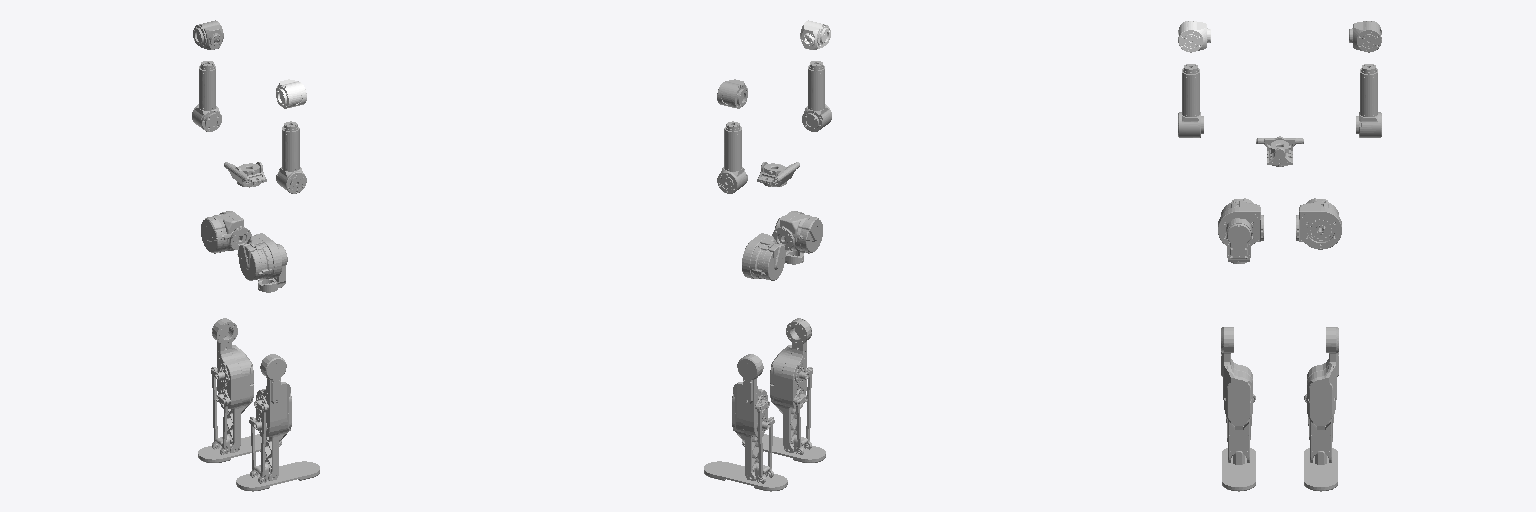
--- Facts derived from the render (not from the file) ---
Views: 3 orthographic renders of the robot side by side, from view 1: azimuth 30°, elevation 25°; view 2: azimuth 150°, elevation 25°; view 3: azimuth 270°, elevation 25°.
Model elf2 with 29 links and 28 joints (25 revolute, 3 fixed), rooted at base_link, posed all joints at 0.
Links seen in each view (by area): view 1: l_knee_y_link, r_knee_y_link, r_hip_y_link, l_hip_y_link, r_shld_z_link, l_shld_z_link, r_ankle_x_link, l_ankle_x_link, r_shld_y_link, l_shld_y_link, waist_x_link; view 2: r_knee_y_link, l_knee_y_link, l_hip_y_link, r_hip_y_link, l_shld_z_link, r_shld_z_link, l_ankle_x_link, r_ankle_x_link, l_shld_y_link, r_shld_y_link, waist_x_link; view 3: l_knee_y_link, r_knee_y_link, l_hip_y_link, l_shld_z_link, r_shld_z_link, l_ankle_x_link, r_ankle_x_link, r_hip_y_link, r_hip_x_link, l_shld_y_link, r_shld_y_link, waist_x_link.
Boxes of the visible links, x1=… form: l_knee_y_link: x1=211, y1=318, x2=253, y2=454; r_knee_y_link: x1=249, y1=354, x2=291, y2=483; r_hip_y_link: x1=237, y1=233, x2=281, y2=280; l_hip_y_link: x1=201, y1=211, x2=251, y2=253; r_shld_z_link: x1=276, y1=121, x2=306, y2=193; l_shld_z_link: x1=192, y1=61, x2=221, y2=131; r_ankle_x_link: x1=236, y1=461, x2=319, y2=491; l_ankle_x_link: x1=198, y1=434, x2=281, y2=462; r_shld_y_link: x1=276, y1=79, x2=306, y2=108; l_shld_y_link: x1=193, y1=20, x2=223, y2=49; waist_x_link: x1=224, y1=162, x2=266, y2=187; r_knee_y_link: x1=770, y1=318, x2=812, y2=454; l_knee_y_link: x1=732, y1=354, x2=774, y2=483; l_hip_y_link: x1=742, y1=233, x2=786, y2=280; r_hip_y_link: x1=772, y1=211, x2=822, y2=253; l_shld_z_link: x1=717, y1=121, x2=747, y2=193; r_shld_z_link: x1=802, y1=61, x2=831, y2=131; l_ankle_x_link: x1=704, y1=461, x2=787, y2=491; r_ankle_x_link: x1=742, y1=434, x2=825, y2=462; l_shld_y_link: x1=717, y1=79, x2=747, y2=108; r_shld_y_link: x1=800, y1=20, x2=830, y2=49; waist_x_link: x1=757, y1=162, x2=799, y2=186; l_knee_y_link: x1=1304, y1=327, x2=1338, y2=462; r_knee_y_link: x1=1221, y1=327, x2=1255, y2=462; l_hip_y_link: x1=1296, y1=198, x2=1341, y2=249; l_shld_z_link: x1=1356, y1=64, x2=1381, y2=137; r_shld_z_link: x1=1178, y1=64, x2=1203, y2=137; l_ankle_x_link: x1=1304, y1=448, x2=1337, y2=491; r_ankle_x_link: x1=1222, y1=448, x2=1255, y2=491; r_hip_y_link: x1=1218, y1=198, x2=1263, y2=245; r_hip_x_link: x1=1226, y1=218, x2=1251, y2=263; l_shld_y_link: x1=1349, y1=21, x2=1381, y2=52; r_shld_y_link: x1=1178, y1=21, x2=1210, y2=52; waist_x_link: x1=1256, y1=136, x2=1303, y2=166.
Bounding box of the posed robot: 0.24 × 0.4979 × 1.19 m (x, y, z).
Meshes: 26 distinct files referenced, 15 mesh visuals loaded (15 binary STL); not drawn: 11 (reference not matched to a file when rendering).

The robot description file, URDF, robot "elf2":
<?xml version="1.0" encoding="utf-8"?>
<robot
  name="elf2">
  <link
    name="base_link">
    <inertial>
      <origin
        xyz="-0.002719 0.001928 0.003917"
        rpy="0 0 0" />
      <mass
        value="8.948443" />
      <inertia
        ixx="0.18746"
        ixy="-0.000182"
        ixz="-0.001384"
        iyy="0.142272"
        iyz="0.000105"
        izz="0.069523" />
    </inertial>
    <visual>
      <origin
        xyz="0 0 0"
        rpy="0 0 0" />
      <geometry>
        <mesh
          filename="../meshes/base_link.STL" />
      </geometry>
      <material
        name="">
        <color
          rgba="0.75294 0.75294 0.75294 1" />
      </material>
    </visual>
    <collision>
      <origin
        xyz="0 0 0"
        rpy="0 0 0" />
      <geometry>
        <mesh
          filename="../meshes/base_link.STL" />
      </geometry>
    </collision>
  </link>
  <link
    name="waist_y_link">
    <inertial>
      <origin
        xyz="0.0 0.0 0.0"
        rpy="0 0 0" />
      <mass
        value="0.05316739" />
      <inertia
        ixx="9.7e-06"
        ixy="-0.0"
        ixz="-0.0"
        iyy="9.7e-06"
        iyz="-0.0"
        izz="1.819e-05" />
    </inertial>
    <visual>
      <origin
        xyz="0 0 0"
        rpy="0 0 0" />
      <geometry>
        <mesh
          filename="../meshes/waist_y_link.STL" />
      </geometry>
      <material
        name="">
        <color
          rgba="0.752941176470588 0.752941176470588 0.752941176470588 1" />
      </material>
    </visual>
    <!-- <collision>
      <origin
        xyz="0 0 0"
        rpy="0 0 0" />
      <geometry>
        <mesh
          filename="../meshes/waist_y_link.STL" />
      </geometry>
    </collision> -->
  </link>
  <joint
    name="waist_y_joint"
    type="revolute">
    <origin
      xyz="0 0 -0.2087"
      rpy="0 0 0" />
    <parent
      link="base_link" />
    <child
      link="waist_y_link" />
    <axis
      xyz="0 1 0" />
    <limit
      lower="-0.523"
      upper="0.523"
      effort="50"
      velocity="20" />
  </joint>
  <link
    name="waist_x_link">
    <inertial>
      <origin
        xyz="-0.00448944 0.0 -0.02389195"
        rpy="0 0 0" />
      <mass
        value="0.21792014" />
      <inertia
        ixx="9.089e-05"
        ixy="-0.0"
        ixz="3.456e-05"
        iyy="0.0001491"
        iyz="-0.0"
        izz="0.00013001" />
    </inertial>
    <visual>
      <origin
        xyz="0 0 0"
        rpy="0 0 0" />
      <geometry>
        <mesh
          filename="../meshes/waist_x_link.STL" />
      </geometry>
      <material
        name="">
        <color
          rgba="0.752941176470588 0.752941176470588 0.752941176470588 1" />
      </material>
    </visual>
    <!-- <collision>
      <origin
        xyz="0 0 0"
        rpy="0 0 0" />
      <geometry>
        <mesh
          filename="../meshes/waist_x_link.STL" />
      </geometry>
    </collision> -->
  </link>
  <joint
    name="waist_x_joint"
    type="revolute">
    <origin
      xyz="0 0 0"
      rpy="0 0 0" />
    <parent
      link="waist_y_link" />
    <child
      link="waist_x_link" />
    <axis
      xyz="1 0 0" />
    <limit
      lower="-0.261"
      upper="0.261"
      effort="50"
      velocity="20" />
  </joint>
  <link
    name="waist_z_link">
    <inertial>
      <origin
        xyz="0.00031142 0.00082403 -0.08226891"
        rpy="0 0 0" />
      <mass
        value="3.12645393" />
      <inertia
        ixx="0.0215717"
        ixy="1.17e-06"
        ixz="-1.184e-05"
        iyy="0.00322293"
        iyz="-7.322e-05"
        izz="0.0229471" />
    </inertial>
    <visual>
      <origin
        xyz="0 0 0"
        rpy="0 0 0" />
      <geometry>
        <mesh
          filename="../meshes/waist_z_link.STL" />
      </geometry>
      <material
        name="">
        <color
          rgba="0.752941176470588 0.752941176470588 0.752941176470588 1" />
      </material>
    </visual>
    <collision>
      <origin
        xyz="0 0 0"
        rpy="0 0 0" />
      <geometry>
        <mesh
          filename="../meshes/waist_z_link.STL" />
      </geometry>
    </collision>
  </link>
  <joint
    name="waist_z_joint"
    type="revolute">
    <origin
      xyz="0 0 0"
      rpy="0 0 0" />
    <parent
      link="waist_x_link" />
    <child
      link="waist_z_link" />
    <axis
      xyz="0 0 1" />
    <limit
      lower="-1.57"
      upper="1.57"
      effort="40"
      velocity="20" />
  </joint>
  <link
    name="l_hip_z_link">
    <inertial>
      <origin
        xyz="-0.0951743 -0.00029544 0.01157699"
        rpy="0 0 0" />
      <mass
        value="1.26002534" />
      <inertia
        ixx="0.00250858"
        ixy="-1.87e-05"
        ixz="-0.00093719"
        iyy="0.00299504"
        iyz="6.14e-06"
        izz="0.00188897" />
    </inertial>
    <visual>
      <origin
        xyz="0 0 0"
        rpy="0 0 0" />
      <geometry>
        <mesh
          filename="../meshes/l_hip_z_link.STL" />
      </geometry>
      <material
        name="">
        <color
          rgba="0.752941176470588 0.752941176470588 0.752941176470588 1" />
      </material>
    </visual>
    <collision>
      <origin
        xyz="0 0 0"
        rpy="0 0 0" />
      <geometry>
        <mesh
          filename="../meshes/l_hip_z_link.STL" />
      </geometry>
    </collision>
  </link>
  <joint
    name="l_hip_z_joint"
    type="revolute">
    <origin
      xyz="0 0.1 -0.2175"
      rpy="0 0 0" />
    <parent
      link="waist_z_link" />
    <child
      link="l_hip_z_link" />
    <axis
      xyz="0 0 1" />
    <limit
      lower="-0.785"
      upper="0.785"
      effort="20"
      velocity="20" />
  </joint>
  <link
    name="l_hip_x_link">
    <inertial>
      <origin
        xyz="-0.00349545 -0.05016077 0.00015601"
        rpy="0 0 0" />
      <mass
        value="1.75826055" />
      <inertia
        ixx="0.00145734"
        ixy="0.000276"
        ixz="2.571e-05"
        iyy="0.00183603"
        iyz="-4e-08"
        izz="0.00181117" />
    </inertial>
    <visual>
      <origin
        xyz="0 0 0"
        rpy="0 0 0" />
      <geometry>
        <mesh
          filename="../meshes/l_hip_x_link.STL" />
      </geometry>
      <material
        name="">
        <color
          rgba="0.752941176470588 0.752941176470588 0.752941176470588 1" />
      </material>
    </visual>
    <!-- <collision>
      <origin
        xyz="0 0 0"
        rpy="0 0 0" />
      <geometry>
        <mesh
          filename="../meshes/l_hip_x_link.STL" />
      </geometry>
    </collision> -->
  </link>
  <joint
    name="l_hip_x_joint"
    type="revolute">
    <origin
      xyz="0 0 0"
      rpy="0 0 0" />
    <parent
      link="l_hip_z_link" />
    <child
      link="l_hip_x_link" />
    <axis
      xyz="1 0 0" />
    <limit
      lower="-0.523"
      upper="0.785"
      effort="40"
      velocity="20" />
  </joint>
  <link
    name="l_hip_y_link">
    <inertial>
      <origin
        xyz="0.00237237 0.02408075 -0.04874487"
        rpy="0 0 0" />
      <mass
        value="2.66296335" />
      <inertia
        ixx="0.02678784"
        ixy="0.00016594"
        ixz="0.00075939"
        iyy="0.02619934"
        iyz="-0.00371457"
        izz="0.0045187" />
    </inertial>
    <visual>
      <origin
        xyz="0 0 0"
        rpy="0 0 0" />
      <geometry>
        <mesh
          filename="../meshes/l_hip_y_link.STL" />
      </geometry>
      <material
        name="">
        <color
          rgba="0.752941176470588 0.752941176470588 0.752941176470588 1" />
      </material>
    </visual>
    <!-- <collision>
      <origin
        xyz="0 0 0"
        rpy="0 0 0" />
      <geometry>
        <mesh
          filename="../meshes/l_hip_y_link.STL" />
      </geometry>
    </collision> -->
  </link>
  <joint
    name="l_hip_y_joint"
    type="revolute">
    <origin
      xyz="0 0 0"
      rpy="0 0 0" />
    <parent
      link="l_hip_x_link" />
    <child
      link="l_hip_y_link" />
    <axis
      xyz="0 1 0" />
    <limit
      lower="-2"
      upper="1"
      effort="100"
      velocity="20" />
  </joint>
  <link
    name="l_knee_y_link">
    <inertial>
      <origin
        xyz="0.00711393 -0.00031499 -0.10977806"
        rpy="0 0 0" />
      <mass
        value="1.63072153" />
      <inertia
        ixx="0.01042782"
        ixy="1.62e-06"
        ixz="-0.00054999"
        iyy="0.01018545"
        iyz="-0.00015956"
        izz="0.00140744" />
    </inertial>
    <visual>
      <origin
        xyz="0 0 0"
        rpy="0 0 0" />
      <geometry>
        <mesh
          filename="../meshes/l_knee_y_link.STL" />
      </geometry>
      <material
        name="">
        <color
          rgba="0.752941176470588 0.752941176470588 0.752941176470588 1" />
      </material>
    </visual>
    <collision>
      <origin
        xyz="0 0 0"
        rpy="0 0 0" />
      <geometry>
        <mesh
          filename="../meshes/l_knee_y_link.STL" />
      </geometry>
    </collision>
  </link>
  <joint
    name="l_knee_y_joint"
    type="revolute">
    <origin
      xyz="0 0 -0.3"
      rpy="0 0 0" />
    <parent
      link="l_hip_y_link" />
    <child
      link="l_knee_y_link" />
    <axis
      xyz="0 1 0" />
    <limit
      lower="0"
      upper="2.355"
      effort="120"
      velocity="20" />
  </joint>
  <link
    name="l_ankle_y_link">
    <inertial>
      <origin
        xyz="0.0 0.0 -0.00046563"
        rpy="0 0 0" />
      <mass
        value="0.01206963" />
      <inertia
        ixx="2.89e-06"
        ixy="-0.0"
        ixz="-0.0"
        iyy="3.4e-07"
        iyz="-0.0"
        izz="3.01e-06" />
    </inertial>
    <visual>
      <origin
        xyz="0 0 0"
        rpy="0 0 0" />
      <geometry>
        <mesh
          filename="../meshes/l_ankle_y_link.STL" />
      </geometry>
      <material
        name="">
        <color
          rgba="0.752941176470588 0.752941176470588 0.752941176470588 1" />
      </material>
    </visual>
    <!-- <collision>
      <origin
        xyz="0 0 0"
        rpy="0 0 0" />
      <geometry>
        <mesh
          filename="../meshes/l_ankle_y_link.STL" />
      </geometry>
    </collision> -->
  </link>
  <joint
    name="l_ankle_y_joint"
    type="revolute">
    <origin
      xyz="0 0 -0.3"
      rpy="0 0 0" />
    <parent
      link="l_knee_y_link" />
    <child
      link="l_ankle_y_link" />
    <axis
      xyz="0 1 0" />
    <limit
      lower="-2"
      upper="2"
      effort="12"
      velocity="20" />
  </joint>
  <link
    name="l_ankle_x_link">
    <inertial>
      <origin
        xyz="-0.00088171 0.0 -0.02245193"
        rpy="0 0 0" />
      <mass
        value="0.27064154" />
      <inertia
        ixx="0.00014549"
        ixy="-0.0"
        ixz="5.53e-06"
        iyy="0.00071745"
        iyz="-0.0"
        izz="0.00081666" />
    </inertial>
    <visual>
      <origin
        xyz="0 0 0"
        rpy="0 0 0" />
      <geometry>
        <mesh
          filename="../meshes/l_ankle_x_link.STL" />
      </geometry>
      <material
        name="">
        <color
          rgba="0.752941176470588 0.752941176470588 0.752941176470588 1" />
      </material>
    </visual>
    <collision>
      <origin
        xyz="0 0 0"
        rpy="0 0 0" />
      <geometry>
        <mesh
          filename="../meshes/l_ankle_x_link.STL" />
      </geometry>
    </collision>
  </link>
  <joint
    name="l_ankle_x_joint"
    type="revolute">
    <origin
      xyz="0 0 0"
      rpy="0 0 0" />
    <parent
      link="l_ankle_y_link" />
    <child
      link="l_ankle_x_link" />
    <axis
      xyz="1 0 0" />
    <limit
      lower="-0.349"
      upper="0.349"
      effort="6"
      velocity="20" />
  </joint>
  <link
    name="r_hip_z_link">
    <inertial>
      <origin
        xyz="-0.0951743 0.00029543 0.01157699"
        rpy="0 0 0" />
      <mass
        value="1.26002506" />
      <inertia
        ixx="0.00250858"
        ixy="1.87e-05"
        ixz="-0.00093719"
        iyy="0.00299504"
        iyz="-6.14e-06"
        izz="0.00188897" />
    </inertial>
    <visual>
      <origin
        xyz="0 0 0"
        rpy="0 0 0" />
      <geometry>
        <mesh
          filename="../meshes/r_hip_z_link.STL" />
      </geometry>
      <material
        name="">
        <color
          rgba="0.752941176470588 0.752941176470588 0.752941176470588 1" />
      </material>
    </visual>
    <collision>
      <origin
        xyz="0 0 0"
        rpy="0 0 0" />
      <geometry>
        <mesh
          filename="../meshes/r_hip_z_link.STL" />
      </geometry>
    </collision>
  </link>
  <joint
    name="r_hip_z_joint"
    type="revolute">
    <origin
      xyz="0 -0.1 -0.2175"
      rpy="0 0 0" />
    <parent
      link="waist_z_link" />
    <child
      link="r_hip_z_link" />
    <axis
      xyz="0 0 1" />
    <limit
      lower="-0.785"
      upper="0.785"
      effort="20"
      velocity="20" />
  </joint>
  <link
    name="r_hip_x_link">
    <inertial>
      <origin
        xyz="-0.00349545 0.05016077 0.000156"
        rpy="0 0 0" />
      <mass
        value="1.75825984" />
      <inertia
        ixx="0.00145734"
        ixy="-0.000276"
        ixz="2.571e-05"
        iyy="0.00183603"
        iyz="4e-08"
        izz="0.00181117" />
    </inertial>
    <visual>
      <origin
        xyz="0 0 0"
        rpy="0 0 0" />
      <geometry>
        <mesh
          filename="../meshes/r_hip_x_link.STL" />
      </geometry>
      <material
        name="">
        <color
          rgba="0.752941176470588 0.752941176470588 0.752941176470588 1" />
      </material>
    </visual>
    <!-- <collision>
      <origin
        xyz="0 0 0"
        rpy="0 0 0" />
      <geometry>
        <mesh
          filename="../meshes/r_hip_x_link.STL" />
      </geometry>
    </collision> -->
  </link>
  <joint
    name="r_hip_x_joint"
    type="revolute">
    <origin
      xyz="0 0 0"
      rpy="0 0 0" />
    <parent
      link="r_hip_z_link" />
    <child
      link="r_hip_x_link" />
    <axis
      xyz="1 0 0" />
    <limit
      lower="-0.785"
      upper="0.523"
      effort="40"
      velocity="20" />
  </joint>
  <link
    name="r_hip_y_link">
    <inertial>
      <origin
        xyz="0.00237237 -0.02408076 -0.04874488"
        rpy="0 0 0" />
      <mass
        value="2.66296401" />
      <inertia
        ixx="0.02678786"
        ixy="-0.00016594"
        ixz="0.00075939"
        iyy="0.02619935"
        iyz="0.00371458"
        izz="0.0045187" />
    </inertial>
    <visual>
      <origin
        xyz="0 0 0"
        rpy="0 0 0" />
      <geometry>
        <mesh
          filename="../meshes/r_hip_y_link.STL" />
      </geometry>
      <material
        name="">
        <color
          rgba="0.752941176470588 0.752941176470588 0.752941176470588 1" />
      </material>
    </visual>
    <!-- <collision>
      <origin
        xyz="0 0 0"
        rpy="0 0 0" />
      <geometry>
        <mesh
          filename="../meshes/r_hip_y_link.STL" />
      </geometry>
    </collision> -->
  </link>
  <joint
    name="r_hip_y_joint"
    type="revolute">
    <origin
      xyz="0 0 0"
      rpy="0 0 0" />
    <parent
      link="r_hip_x_link" />
    <child
      link="r_hip_y_link" />
    <axis
      xyz="0 1 0" />
    <limit
      lower="-2"
      upper="1"
      effort="100"
      velocity="20" />
  </joint>
  <link
    name="r_knee_y_link">
    <inertial>
      <origin
        xyz="0.00711396 0.00031502 -0.109778"
        rpy="0 0 0" />
      <mass
        value="1.63072158" />
      <inertia
        ixx="0.01042781"
        ixy="-1.62e-06"
        ixz="-0.00054998"
        iyy="0.01018544"
        iyz="0.00015955"
        izz="0.00140744" />
    </inertial>
    <visual>
      <origin
        xyz="0 0 0"
        rpy="0 0 0" />
      <geometry>
        <mesh
          filename="../meshes/r_knee_y_link.STL" />
      </geometry>
      <material
        name="">
        <color
          rgba="0.752941176470588 0.752941176470588 0.752941176470588 1" />
      </material>
    </visual>
    <collision>
      <origin
        xyz="0 0 0"
        rpy="0 0 0" />
      <geometry>
        <mesh
          filename="../meshes/r_knee_y_link.STL" />
      </geometry>
    </collision>
  </link>
  <joint
    name="r_knee_y_joint"
    type="revolute">
    <origin
      xyz="0 0 -0.3"
      rpy="0 0 0" />
    <parent
      link="r_hip_y_link" />
    <child
      link="r_knee_y_link" />
    <axis
      xyz="0 1 0" />
    <limit
      lower="0"
      upper="2.355"
      effort="120"
      velocity="20" />
  </joint>
  <link
    name="r_ankle_y_link">
    <inertial>
      <origin
        xyz="0.0 0.0 -0.00046563"
        rpy="0 0 0" />
      <mass
        value="0.01206963" />
      <inertia
        ixx="2.89e-06"
        ixy="-0.0"
        ixz="-0.0"
        iyy="3.4e-07"
        iyz="-0.0"
        izz="3.01e-06" />
    </inertial>
    <visual>
      <origin
        xyz="0 0 0"
        rpy="0 0 0" />
      <geometry>
        <mesh
          filename="../meshes/r_ankle_y_link.STL" />
      </geometry>
      <material
        name="">
        <color
          rgba="0.752941176470588 0.752941176470588 0.752941176470588 1" />
      </material>
    </visual>
    <!-- <collision>
      <origin
        xyz="0 0 0"
        rpy="0 0 0" />
      <geometry>
        <mesh
          filename="../meshes/r_ankle_y_link.STL" />
      </geometry>
    </collision> -->
  </link>
  <joint
    name="r_ankle_y_joint"
    type="revolute">
    <origin
      xyz="0 0 -0.3"
      rpy="0 0 0" />
    <parent
      link="r_knee_y_link" />
    <child
      link="r_ankle_y_link" />
    <axis
      xyz="0 1 0" />
    <limit
      lower="-2"
      upper="2"
      effort="12"
      velocity="20" />
  </joint>
  <link
    name="r_ankle_x_link">
    <inertial>
      <origin
        xyz="-0.00088171 0.0 -0.02245193"
        rpy="0 0 0" />
      <mass
        value="0.27064154" />
      <inertia
        ixx="0.00014549"
        ixy="-0.0"
        ixz="5.53e-06"
        iyy="0.00071745"
        iyz="-0.0"
        izz="0.00081666" />
    </inertial>
    <visual>
      <origin
        xyz="0 0 0"
        rpy="0 0 0" />
      <geometry>
        <mesh
          filename="../meshes/r_ankle_x_link.STL" />
      </geometry>
      <material
        name="">
        <color
          rgba="0.752941176470588 0.752941176470588 0.752941176470588 1" />
      </material>
    </visual>
    <collision>
      <origin
        xyz="0 0 0"
        rpy="0 0 0" />
      <geometry>
        <mesh
          filename="../meshes/r_ankle_x_link.STL" />
      </geometry>
    </collision>
  </link>
  <joint
    name="r_ankle_x_joint"
    type="revolute">
    <origin
      xyz="0 0 0"
      rpy="0 0 0" />
    <parent
      link="r_ankle_y_link" />
    <child
      link="r_ankle_x_link" />
    <axis
      xyz="1 0 0" />
    <limit
      lower="-0.349"
      upper="0.349"
      effort="6"
      velocity="20" />
  </joint>
  <link
    name="l_shld_y_link">
    <inertial>
      <origin
        xyz="0.00068297 -0.00449372 2.22e-06"
        rpy="0 0 0" />
      <mass
        value="0.53804971" />
      <inertia
        ixx="0.00030648"
        ixy="4.03e-06"
        ixz="2e-08"
        iyy="0.00029153"
        iyz="1e-07"
        izz="0.00032312" />
    </inertial>
    <visual>
      <origin
        xyz="0 0 0"
        rpy="0 0 0" />
      <geometry>
        <mesh
          filename="../meshes/l_shld_y_link.STL" />
      </geometry>
      <material
        name="">
        <color
          rgba="0.752941176470588 0.752941176470588 0.752941176470588 1" />
      </material>
    </visual>
    <!-- <collision>
      <origin
        xyz="0 0 0"
        rpy="0 0 0" />
      <geometry>
        <mesh
          filename="../meshes/l_shld_y_link.STL" />
      </geometry>
    </collision> -->
  </link>
  <joint
    name="l_shld_y_joint"
    type="revolute">
    <origin
      xyz="0 0.21705 0.09205"
      rpy="0 0 0" />
    <parent
      link="base_link" />
    <child
      link="l_shld_y_link" />
    <axis
      xyz="0 1 0" />
    <limit
      lower="-2"
      upper="2"
      effort="27"
      velocity="20" />
  </joint>
  <link
    name="l_shld_x_link">
    <inertial>
      <origin
        xyz="-2.047e-05 5.316e-05 -0.06162654"
        rpy="0 0 0" />
      <mass
        value="0.48847489" />
      <inertia
        ixx="0.00027194"
        ixy="4e-08"
        ixz="-5.4e-07"
        iyy="0.00033709"
        iyz="-5.4e-07"
        izz="0.0002884" />
    </inertial>
    <visual>
      <origin
        xyz="0 0 0"
        rpy="0 0 0" />
      <geometry>
        <mesh
          filename="../meshes/l_shld_x_link.STL" />
      </geometry>
      <material
        name="">
        <color
          rgba="0.752941176470588 0.752941176470588 0.752941176470588 1" />
      </material>
    </visual>
    <!-- <collision>
      <origin
        xyz="0 0 0"
        rpy="0 0 0" />
      <geometry>
        <mesh
          filename="../meshes/l_shld_x_link.STL" />
      </geometry>
    </collision> -->
  </link>
  <joint
    name="l_shld_x_joint"
    type="revolute">
    <origin
      xyz="0 0 0"
      rpy="0 0 0" />
    <parent
      link="l_shld_y_link" />
    <child
      link="l_shld_x_link" />
    <axis
      xyz="1 0 0" />
    <limit
      lower="-0.5"
      upper="1.57"
      effort="27"
      velocity="20" />
  </joint>
  <link
    name="l_shld_z_link">
    <inertial>
      <origin
        xyz="4.164e-05 0.00022669 -0.2212782"
        rpy="0 0 0" />
      <mass
        value="0.59309528" />
      <inertia
        ixx="0.00136573"
        ixy="5.3e-07"
        ixz="-1e-08"
        iyy="0.00133989"
        iyz="1.22e-06"
        izz="0.00030342" />
    </inertial>
    <visual>
      <origin
        xyz="0 0 0"
        rpy="0 0 0" />
      <geometry>
        <mesh
          filename="../meshes/l_shld_z_link.STL" />
      </geometry>
      <material
        name="">
        <color
          rgba="0.752941176470588 0.752941176470588 0.752941176470588 1" />
      </material>
    </visual>
    <collision>
      <origin
        xyz="0 0 0"
        rpy="0 0 0" />
      <geometry>
        <mesh
          filename="../meshes/l_shld_z_link.STL" />
      </geometry>
    </collision>
  </link>
  <joint
    name="l_shld_z_joint"
    type="revolute">
    <origin
      xyz="0 0 0"
      rpy="0 0 0" />
    <parent
      link="l_shld_x_link" />
    <child
      link="l_shld_z_link" />
    <axis
      xyz="0 0 1" />
    <limit
      lower="-0.785"
      upper="0.785"
      effort="7"
      velocity="20" />
  </joint>
  <link
    name="l_elb_y_link">
    <inertial>
      <origin
        xyz="5.192e-05 1.999e-05 -0.08561189"
        rpy="0 0 0" />
      <mass
        value="0.50005725" />
      <inertia
        ixx="0.00043713"
        ixy="-4e-08"
        ixz="-4.9e-07"
        iyy="0.00036043"
        iyz="6.3e-07"
        izz="0.00030266" />
    </inertial>
    <visual>
      <origin
        xyz="0 0 0"
        rpy="0 0 0" />
      <geometry>
        <mesh
          filename="../meshes/l_elb_y_link.STL" />
      </geometry>
      <material
        name="">
        <color
          rgba="0.752941176470588 0.752941176470588 0.752941176470588 1" />
      </material>
    </visual>
    <collision>
      <origin
        xyz="0 0 0"
        rpy="0 0 0" />
      <geometry>
        <mesh
          filename="../meshes/l_elb_y_link.STL" />
      </geometry>
    </collision>
  </link>
  <joint
    name="l_elb_y_joint"
    type="revolute">
    <origin
      xyz="0 0 -0.24"
      rpy="0 0 0" />
    <parent
      link="l_shld_z_link" />
    <child
      link="l_elb_y_link" />
    <axis
      xyz="0 1 0" />
    <limit
      lower="-2.355"
      upper="0.5"
      effort="27"
      velocity="20" />
  </joint>
  <link
    name="l_elb_z_link">
    <inertial>
      <origin
        xyz="1.97e-06 -1.756e-05 -0.18282539"
        rpy="0 0 0" />
      <mass
        value="0.13457416" />
      <inertia
        ixx="0.00040001"
        ixy="-0.0"
        ixz="-2e-08"
        iyy="0.00039996"
        iyz="1.5e-07"
        izz="5.662e-05" />
    </inertial>
    <visual>
      <origin
        xyz="0 0 0"
        rpy="0 0 0" />
      <geometry>
        <mesh
          filename="../meshes/l_elb_z_link.STL" />
      </geometry>
      <material
        name="">
        <color
          rgba="0.752941176470588 0.752941176470588 0.752941176470588 1" />
      </material>
    </visual>
    <collision>
      <origin
        xyz="0 0 0"
        rpy="0 0 0" />
      <geometry>
        <mesh
          filename="../meshes/l_elb_z_link.STL" />
      </geometry>
    </collision>
  </link>
  <joint
    name="l_elb_z_joint"
    type="revolute">
    <origin
      xyz="0 0 0"
      rpy="0 0 0" />
    <parent
      link="l_elb_y_link" />
    <child
      link="l_elb_z_link" />
    <axis
      xyz="0 0 1" />
    <limit
      lower="-0.785"
      upper="0.785"
      effort="7"
      velocity="20" />
  </joint>
  <link
    name="r_shld_y_link">
    <inertial>
      <origin
        xyz="0.00068297 0.00449372 -2.22e-06"
        rpy="0 0 0" />
      <mass
        value="0.53804971" />
      <inertia
        ixx="0.00030648"
        ixy="-4.03e-06"
        ixz="-2e-08"
        iyy="0.00029153"
        iyz="1e-07"
        izz="0.00032312" />
    </inertial>
    <visual>
      <origin
        xyz="0 0 0"
        rpy="0 0 0" />
      <geometry>
        <mesh
          filename="../meshes/r_shld_y_link.STL" />
      </geometry>
      <material
        name="">
        <color
          rgba="1 1 1 1" />
      </material>
    </visual>
    <!-- <collision>
      <origin
        xyz="0 0 0"
        rpy="0 0 0" />
      <geometry>
        <mesh
          filename="../meshes/r_shld_y_link.STL" />
      </geometry>
    </collision> -->
  </link>
  <joint
    name="r_shld_y_joint"
    type="revolute">
    <origin
      xyz="0 -0.21705 0.09205"
      rpy="0 0 0" />
    <parent
      link="base_link" />
    <child
      link="r_shld_y_link" />
    <axis
      xyz="0 1 0" />
    <limit
      lower="-2"
      upper="2"
      effort="27"
      velocity="20" />
  </joint>
  <link
    name="r_shld_x_link">
    <inertial>
      <origin
        xyz="2.047e-05 -5.316e-05 -0.06162654"
        rpy="0 0 0" />
      <mass
        value="0.48847489" />
      <inertia
        ixx="0.00027194"
        ixy="4e-08"
        ixz="5.4e-07"
        iyy="0.00033709"
        iyz="5.4e-07"
        izz="0.0002884" />
    </inertial>
    <visual>
      <origin
        xyz="0 0 0"
        rpy="0 0 0" />
      <geometry>
        <mesh
          filename="../meshes/r_shld_x_link.STL" />
      </geometry>
      <material
        name="">
        <color
          rgba="0.752941176470588 0.752941176470588 0.752941176470588 1" />
      </material>
    </visual>
    <!-- <collision>
      <origin
        xyz="0 0 0"
        rpy="0 0 0" />
      <geometry>
        <mesh
          filename="../meshes/r_shld_x_link.STL" />
      </geometry>
    </collision> -->
  </link>
  <joint
    name="r_shld_x_joint"
    type="revolute">
    <origin
      xyz="0 0 0"
      rpy="0 0 0" />
    <parent
      link="r_shld_y_link" />
    <child
      link="r_shld_x_link" />
    <axis
      xyz="1 0 0" />
    <limit
      lower="-1.57"
      upper="0.5"
      effort="27"
      velocity="20" />
  </joint>
  <link
    name="r_shld_z_link">
    <inertial>
      <origin
        xyz="-4.164e-05 -0.00022669 -0.2212782"
        rpy="0 0 0" />
      <mass
        value="0.59309528" />
      <inertia
        ixx="0.00136573"
        ixy="5.3e-07"
        ixz="1e-08"
        iyy="0.00133989"
        iyz="-1.22e-06"
        izz="0.00030342" />
    </inertial>
    <visual>
      <origin
        xyz="0 0 0"
        rpy="0 0 0" />
      <geometry>
        <mesh
          filename="../meshes/r_shld_z_link.STL" />
      </geometry>
      <material
        name="">
        <color
          rgba="0.752941176470588 0.752941176470588 0.752941176470588 1" />
      </material>
    </visual>
    <collision>
      <origin
        xyz="0 0 0"
        rpy="0 0 0" />
      <geometry>
        <mesh
          filename="../meshes/r_shld_z_link.STL" />
      </geometry>
    </collision>
  </link>
  <joint
    name="r_shld_z_joint"
    type="revolute">
    <origin
      xyz="0 0 0"
      rpy="0 0 0" />
    <parent
      link="r_shld_x_link" />
    <child
      link="r_shld_z_link" />
    <axis
      xyz="0 0 1" />
    <limit
      lower="-0.785"
      upper="0.785"
      effort="7"
      velocity="20" />
  </joint>
  <link
    name="r_elb_y_link">
    <inertial>
      <origin
        xyz="-5.192e-05 -1.999e-05 -0.08561189"
        rpy="0 0 0" />
      <mass
        value="0.50005725" />
      <inertia
        ixx="0.00043713"
        ixy="-4e-08"
        ixz="4.9e-07"
        iyy="0.00036043"
        iyz="-6.3e-07"
        izz="0.00030266" />
    </inertial>
    <visual>
      <origin
        xyz="0 0 0"
        rpy="0 0 0" />
      <geometry>
        <mesh
          filename="../meshes/r_elb_y_link.STL" />
      </geometry>
      <material
        name="">
        <color
          rgba="0.752941176470588 0.752941176470588 0.752941176470588 1" />
      </material>
    </visual>
    <collision>
      <origin
        xyz="0 0 0"
        rpy="0 0 0" />
      <geometry>
        <mesh
          filename="../meshes/r_elb_y_link.STL" />
      </geometry>
    </collision>
  </link>
  <joint
    name="r_elb_y_joint"
    type="revolute">
    <origin
      xyz="0 0 -0.24"
      rpy="0 0 0" />
    <parent
      link="r_shld_z_link" />
    <child
      link="r_elb_y_link" />
    <axis
      xyz="0 1 0" />
    <limit
      lower="-2.355"
      upper="0.5"
      effort="27"
      velocity="20" />
  </joint>
  <link
    name="r_elb_z_link">
    <inertial>
      <origin
        xyz="-1.97e-06 1.756e-05 -0.18282539"
        rpy="0 0 0" />
      <mass
        value="0.13457416" />
      <inertia
        ixx="0.00040001"
        ixy="-0.0"
        ixz="2e-08"
        iyy="0.00039996"
        iyz="-1.5e-07"
        izz="5.662e-05" />
    </inertial>
    <visual>
      <origin
        xyz="0 0 0"
        rpy="0 0 0" />
      <geometry>
        <mesh
          filename="../meshes/r_elb_z_link.STL" />
      </geometry>
      <material
        name="">
        <color
          rgba="0.752941176470588 0.752941176470588 0.752941176470588 1" />
      </material>
    </visual>
    <collision>
      <origin
        xyz="0 0 0"
        rpy="0 0 0" />
      <geometry>
        <mesh
          filename="../meshes/r_elb_z_link.STL" />
      </geometry>
    </collision>
  </link>
  <joint
    name="r_elb_z_joint"
    type="revolute">
    <origin
      xyz="0 0 0"
      rpy="0 0 0" />
    <parent
      link="r_elb_y_link" />
    <child
      link="r_elb_z_link" />
    <axis
      xyz="0 0 1" />
    <limit
      lower="-0.785"
      upper="0.785"
      effort="7"
      velocity="20" />
  </joint>
  <link
    name="d435i">
  </link>
  <joint
    name="d435i_joint"
    type="fixed">
    <origin
      xyz="0.03255 0 0.2818"
      rpy="-1.5708 0 -1.5708" />
    <parent
      link="base_link" />
    <child
      link="d435i" />
    <axis
      xyz="0 0 0" />
  </joint>
  <link
    name="mid360">
  </link>
  <joint
    name="mid360_joint"
    type="fixed">
    <origin
      xyz="0 0 0.23988"
      rpy="3.1416 0 1.5708" />
    <parent
      link="base_link" />
    <child
      link="mid360" />
    <axis
      xyz="0 0 0" />
  </joint>

  <link name="mid360_link"/>
  <joint name="mid360_joint" type="fixed">
    <origin xyz="0 0 0.2188" rpy="3.1416 0 1.5708" />
    <parent link="base_link" />
    <child link="mid360_link" />
    <axis xyz="0 0 0" />
  </joint>

</robot>
